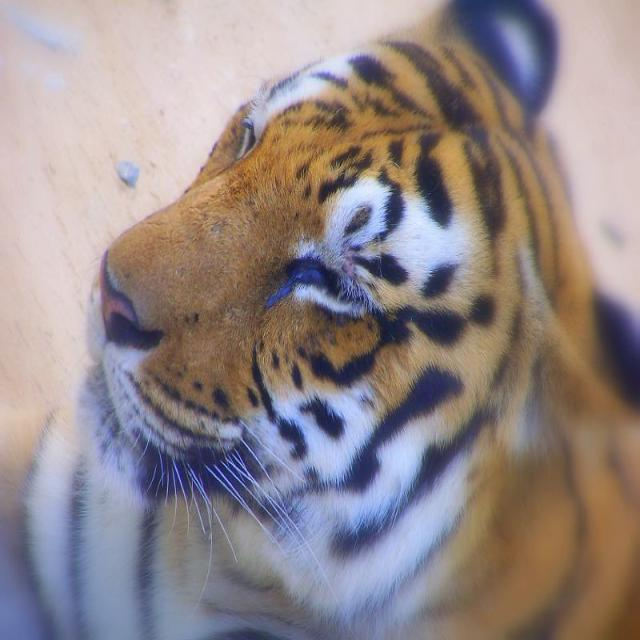Tiger: (19, 20, 637, 636)
